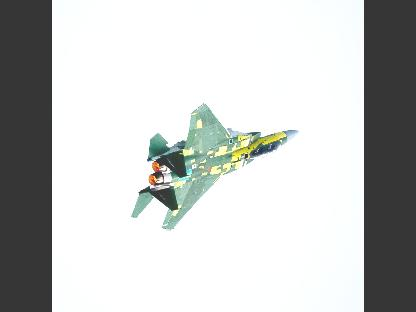F117: (132, 102, 300, 230)
